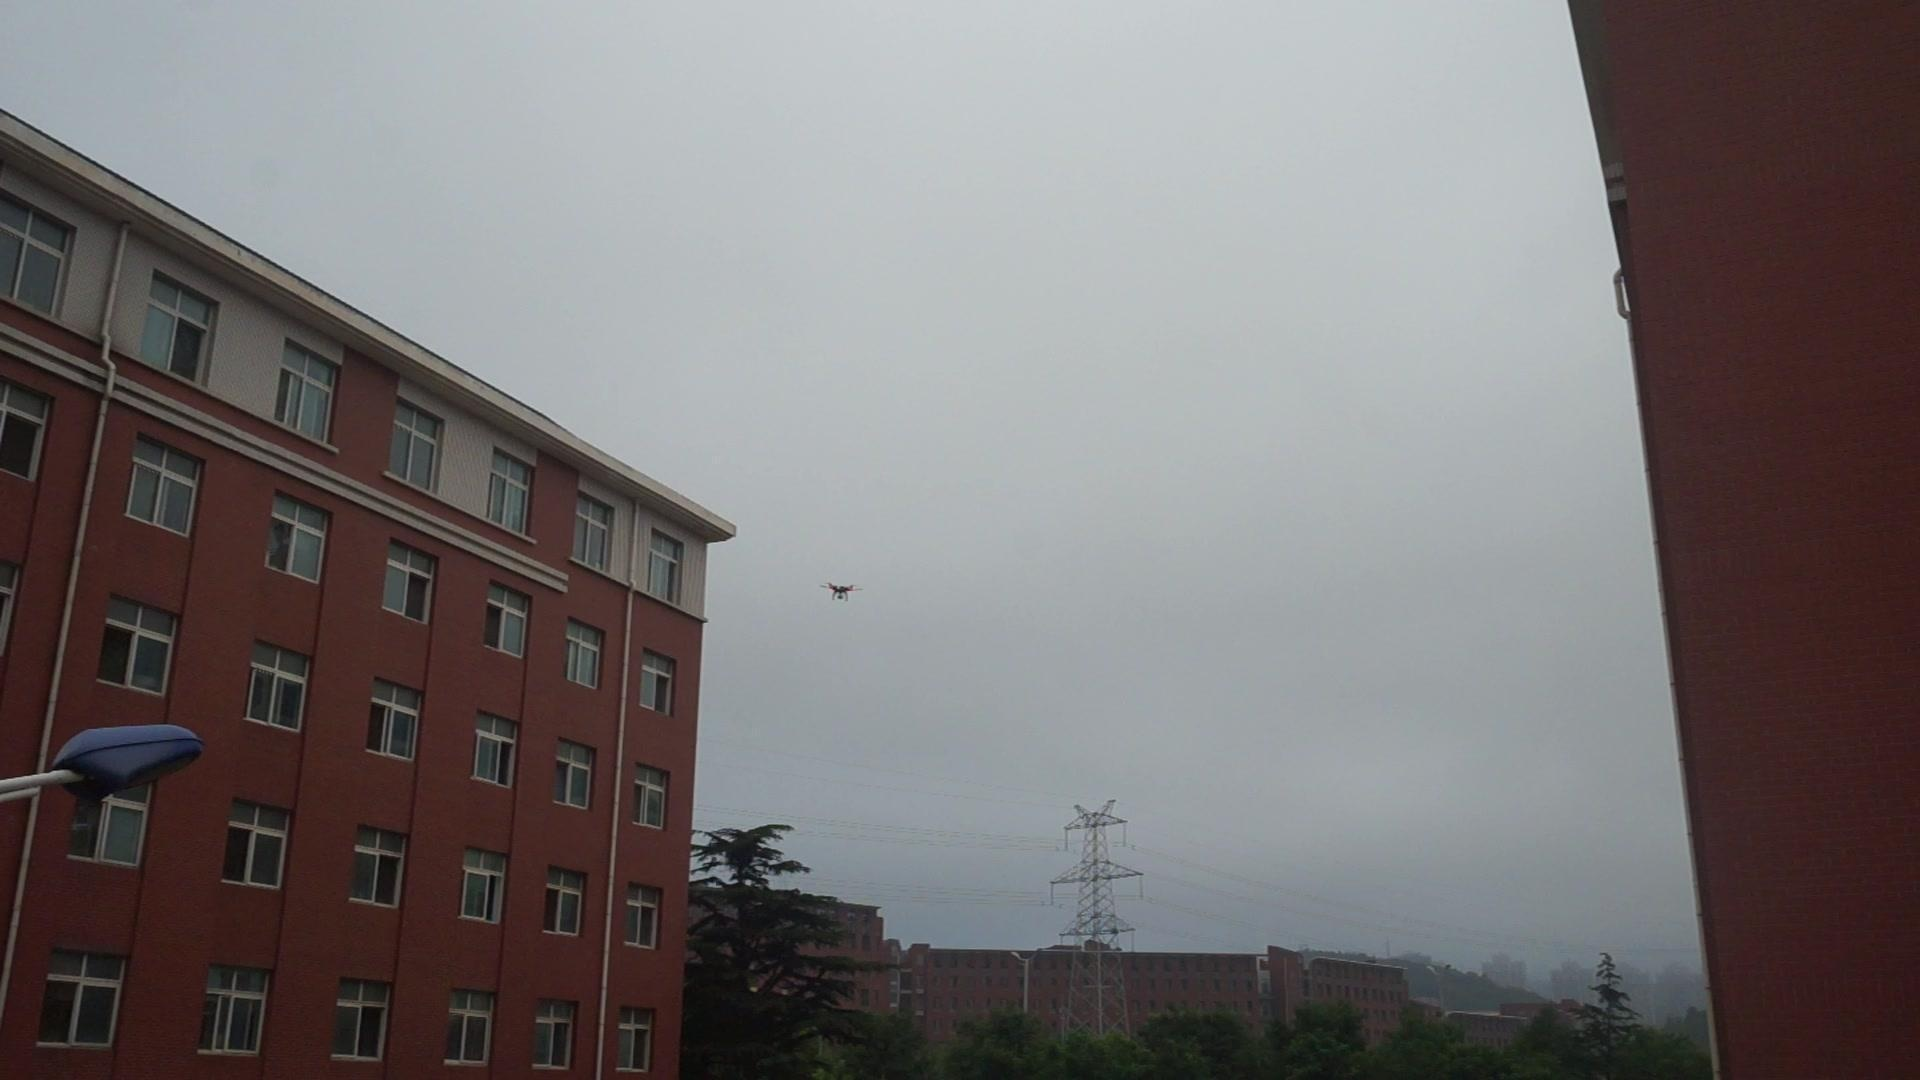UAV: (820, 583, 865, 603)
